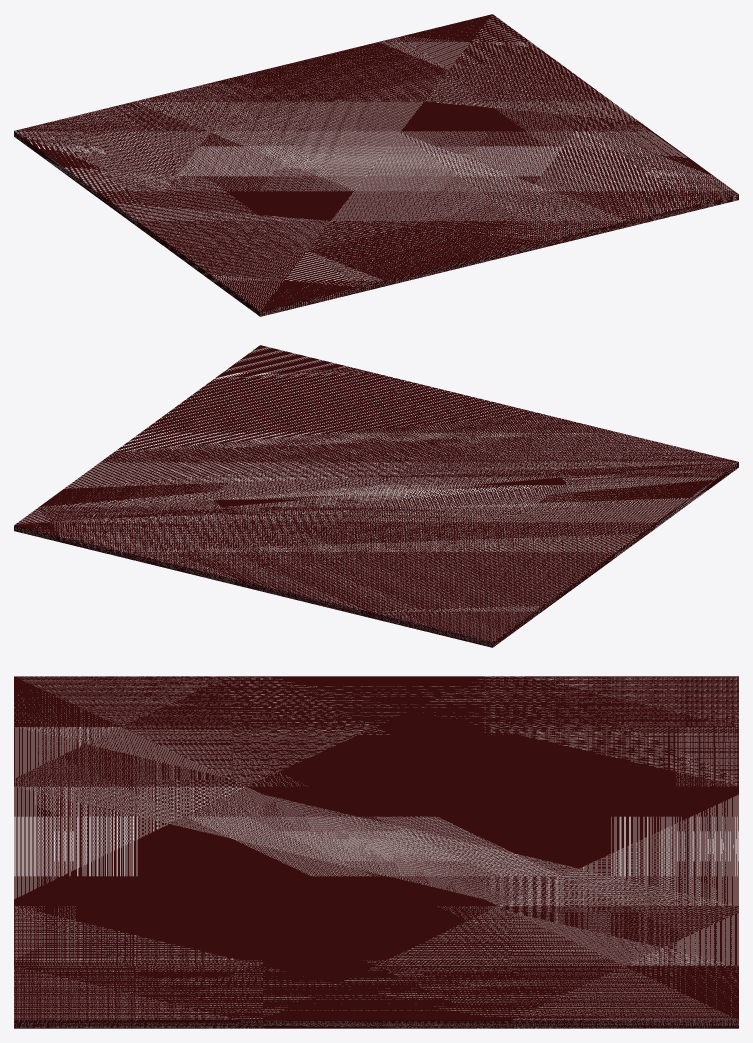
File: original-40.obj
3 views of the same model, one above another, from view 1: azimuth 30°, elevation 25°; view 2: azimuth 150°, elevation 25°; view 3: azimuth 270°, elevation 25° (orthographic). The views are drawn at different scales.
Visible parts, largest first — view 1: Drawer_bottom1/Drawer_bottom/mesh41/mesh41-geometry#mesh41-geome; view 2: Drawer_bottom1/Drawer_bottom/mesh41/mesh41-geometry#mesh41-geome; view 3: Drawer_bottom1/Drawer_bottom/mesh41/mesh41-geometry#mesh41-geome.
Part boxes in pixels (<box>): Drawer_bottom1/Drawer_bottom/mesh41/mesh41-geometry#mesh41-geome: <box>14,14,738,316</box>; Drawer_bottom1/Drawer_bottom/mesh41/mesh41-geometry#mesh41-geome: <box>14,345,738,647</box>; Drawer_bottom1/Drawer_bottom/mesh41/mesh41-geometry#mesh41-geome: <box>14,676,738,1028</box>.
Size of the model in its own units: 0.5525 by 0.0132 by 0.4923.
